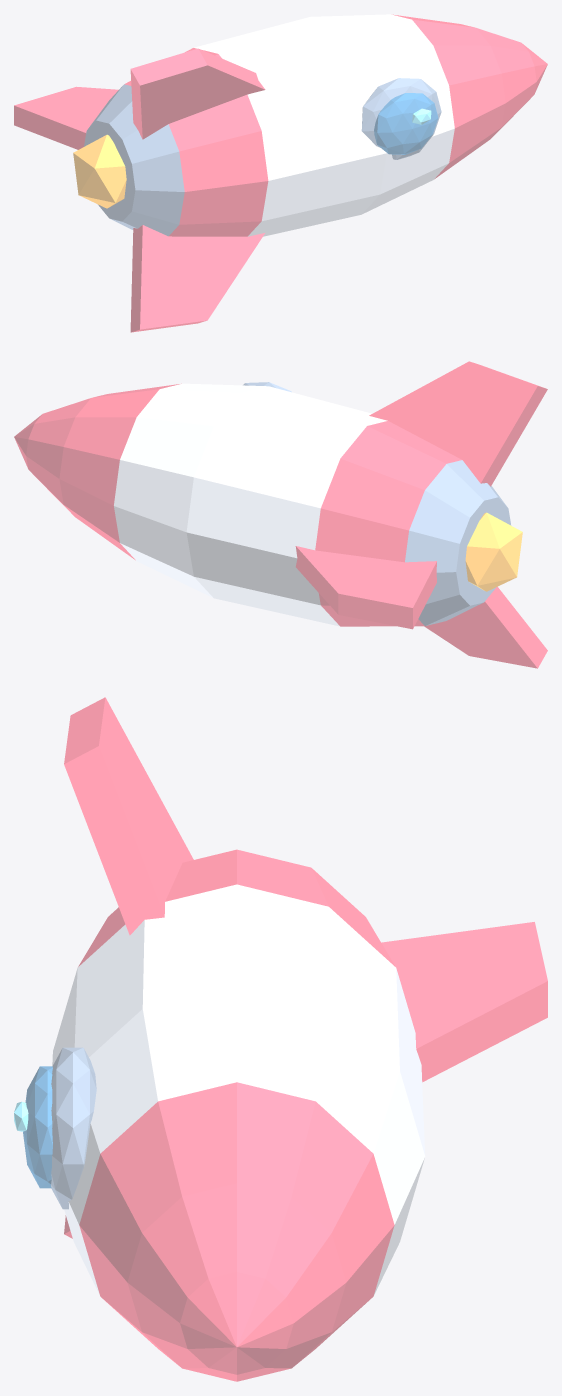
File: orbit-rocket.glb
3 views of the same model, one above another, from view 1: azimuth 30°, elevation 25°; view 2: azimuth 150°, elevation 25°; view 3: azimuth 270°, elevation 25° (orthographic). The views are drawn at different scales.
Visible parts, largest first — view 1: orbit-rocket; view 2: orbit-rocket; view 3: orbit-rocket.
Part boxes in pixels (<box>): orbit-rocket: <box>14,14,547,332</box>; orbit-rocket: <box>14,361,547,668</box>; orbit-rocket: <box>14,697,547,1381</box>.
Size of the model in its own units: 2.28 by 1.28 by 1.22.
